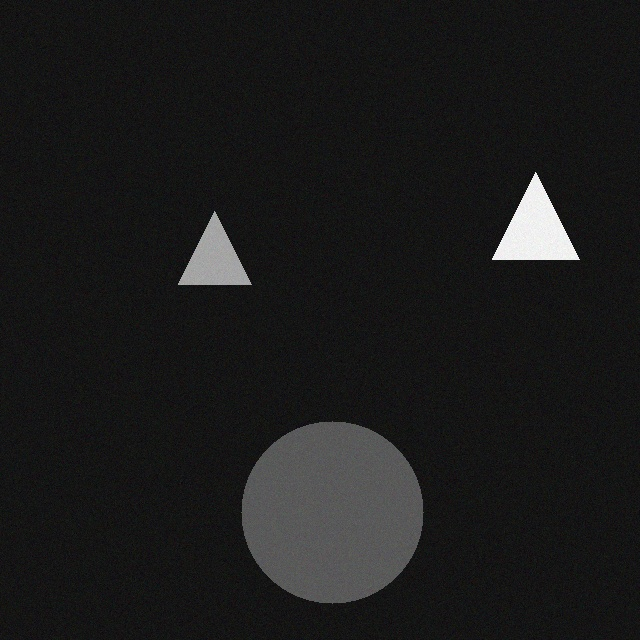circle: (242, 408, 424, 590)
triangle: (493, 159, 580, 246), (179, 198, 252, 271)
